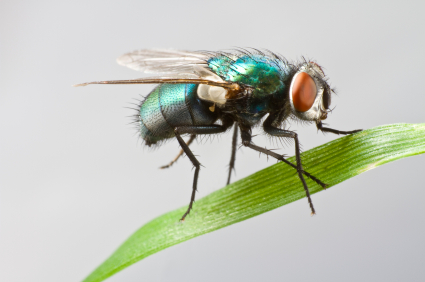house fly: (70, 42, 367, 228)
